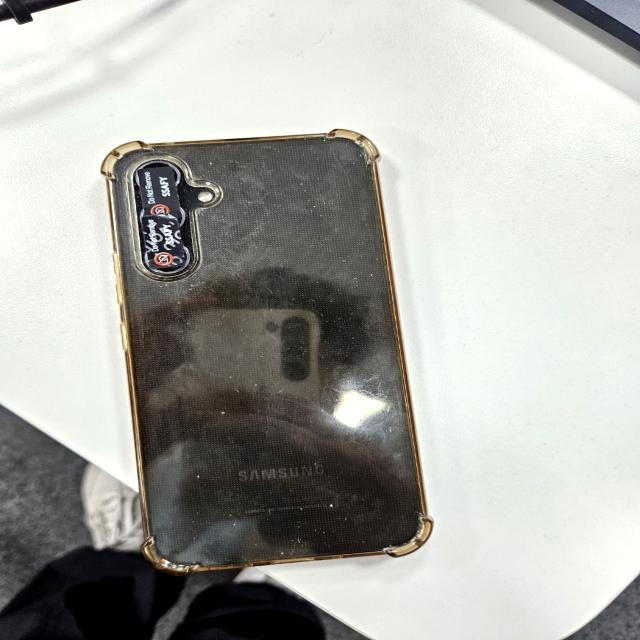phone: (103, 131, 434, 570)
removed_sticker: (143, 216, 184, 268)
sticker: (134, 168, 180, 216)
